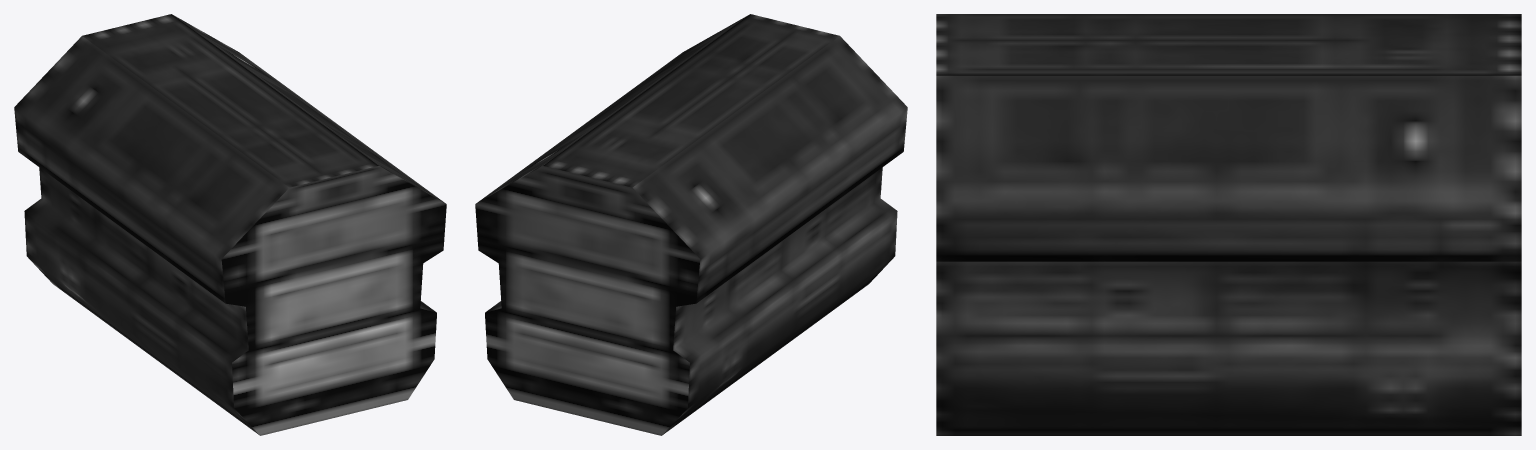
Rendered from utl15a3.obj.
3 views of the same model, side by side, from view 1: azimuth 30°, elevation 25°; view 2: azimuth 150°, elevation 25°; view 3: azimuth 270°, elevation 25° (orthographic). The views are drawn at different scales.
Parts seen in each view (by area): view 1: frm-utl15a; view 2: frm-utl15a; view 3: frm-utl15a.
Boxes of the visible parts, left/top/right/bottom form: frm-utl15a: left=14, top=14, right=446, bottom=435; frm-utl15a: left=475, top=14, right=907, bottom=435; frm-utl15a: left=936, top=14, right=1521, bottom=435.
Size of the model in its own units: 7.05 by 7.22 by 11.25.
1 material, 1 textured.
